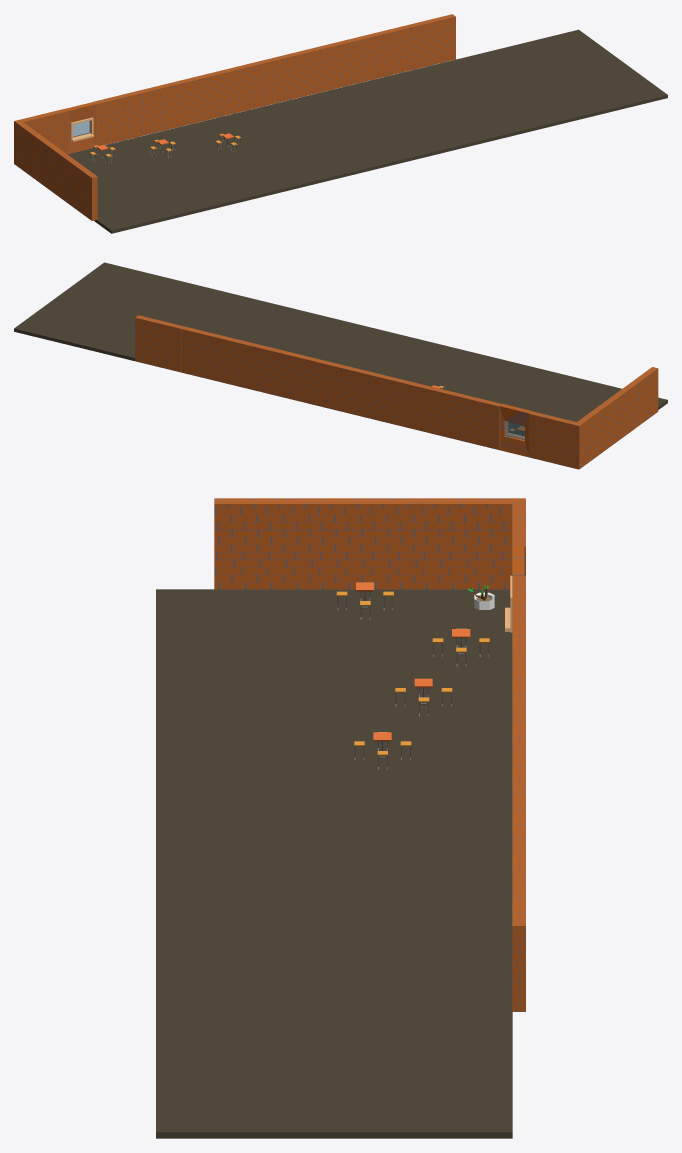
File: doesnotcommute_wall.glb
3 renders of one model, top to bottom at view 1: azimuth 30°, elevation 25°; view 2: azimuth 150°, elevation 25°; view 3: azimuth 270°, elevation 25°, orthographic. The views are drawn at different scales.
Parts seen in each view (by area): view 1: Cube.010, Cube.007, Cube.009, Cube.008, Cube.012, Cube.011, Cube.004, Cube.005, Cube.006, Cube.001, Cube.002, Cube.003 (+15 smaller); view 2: Cube.004, Cube.009, Cube.011, Cube.008, Cube.012, Cube.007, Cube.010, Wall.011, Wall.001, Wall.007, Wall.003, Wall.005 (+10 smaller); view 3: Cube.004, Cube.009, Cube.006, Cube.002, Cube.005, Cube.003, Cube.007, Cube.010, Cube.011, Cube.012, Cube.008, Cube.013 (+6 smaller).
Part boxes in pixels (<box>): Cube.010: <box>304,119,429,175</box>; Cube.007: <box>384,100,509,156</box>; Cube.009: <box>543,61,667,117</box>; Cube.008: <box>463,80,588,136</box>; Cube.012: <box>145,160,271,214</box>; Cube.011: <box>228,138,349,194</box>; Cube.004: <box>499,29,623,82</box>; Cube.005: <box>420,49,544,101</box>; Cube.006: <box>341,68,464,119</box>; Cube.001: <box>105,126,227,177</box>; Cube.002: <box>181,107,303,160</box>; Cube.003: <box>262,87,384,138</box>; Cube.004: <box>14,294,141,351</box>; Cube.009: <box>58,262,184,313</box>; Cube.011: <box>380,341,506,393</box>; Cube.008: <box>140,282,264,334</box>; Cube.012: <box>461,360,586,411</box>; Cube.007: <box>220,301,344,353</box>; Cube.010: <box>302,321,425,373</box>; Wall.011: <box>135,315,183,372</box>; Wall.001: <box>453,393,501,449</box>; Wall.007: <box>271,348,319,405</box>; Wall.003: <box>362,370,410,427</box>; Wall.005: <box>181,326,229,383</box>; Cube.004: <box>328,1054,512,1138</box>; Cube.009: <box>156,1054,340,1138</box>; Cube.006: <box>328,899,512,977</box>; Cube.002: <box>328,744,512,822</box>; Cube.005: <box>328,977,512,1054</box>; Cube.003: <box>328,822,512,899</box>; Cube.007: <box>156,899,340,977</box>; Cube.010: <box>156,822,340,899</box>; Cube.011: <box>156,744,340,822</box>; Cube.012: <box>156,667,340,744</box>; Cube.008: <box>156,977,340,1054</box>; Cube.013: <box>156,589,340,667</box>.
Size of the model in its own units: 96.44 by 7.62 by 27.53.
Materials: 25 (6 with a texture image).
